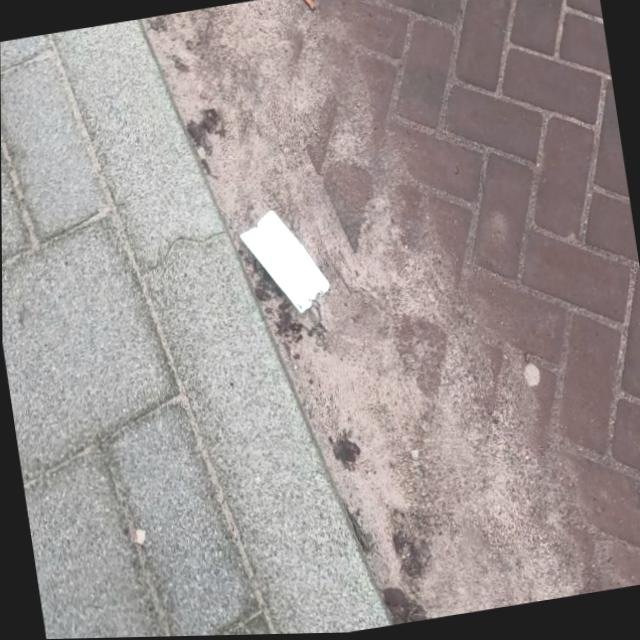Mask: (235, 201, 334, 326)
